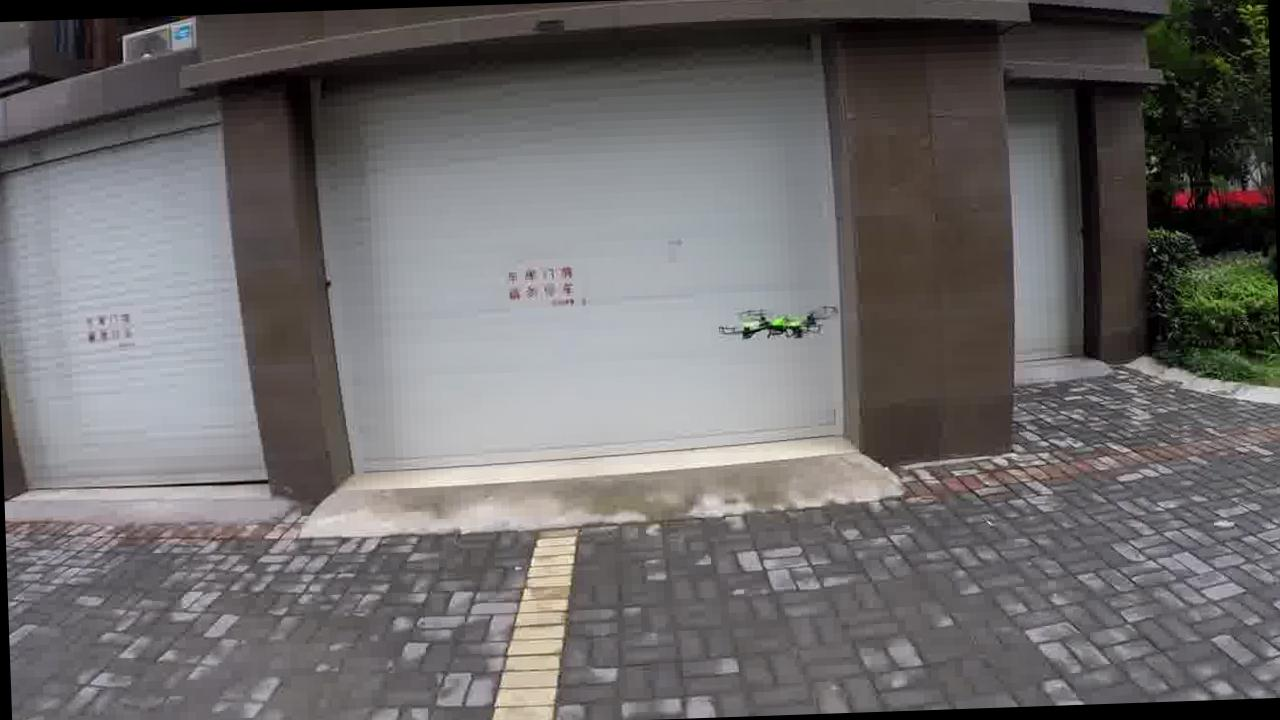drone: (706, 294, 846, 354)
